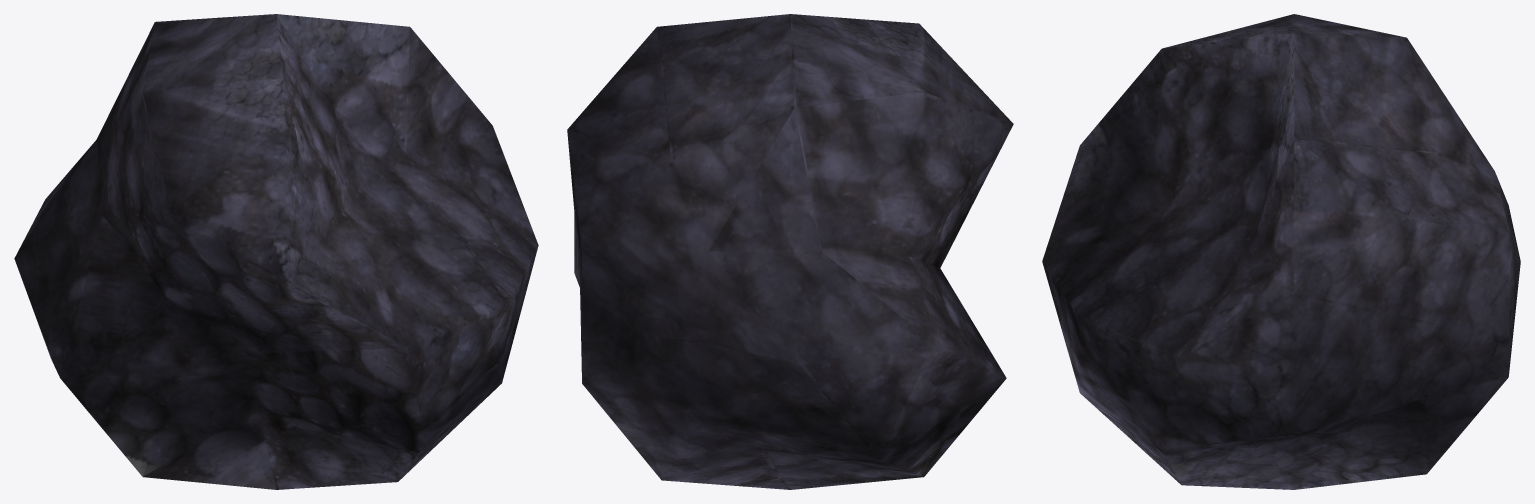
The model's file is Eisen.fbx.
3 views of the same model, side by side, from view 1: azimuth 30°, elevation 25°; view 2: azimuth 150°, elevation 25°; view 3: azimuth 270°, elevation 25° (orthographic). The views are drawn at different scales.
Visible parts, largest first — view 1: Questitems_Eisenblock; view 2: Questitems_Eisenblock; view 3: Questitems_Eisenblock.
Boxes of the visible parts, x1,y1,x2,y2 form: Questitems_Eisenblock: (14,14,538,489); Questitems_Eisenblock: (567,14,1013,489); Questitems_Eisenblock: (1042,14,1520,489).
Size of the model in its own units: 7.26 by 7.63 by 7.25.
Materials: 1 (1 with a texture image).
